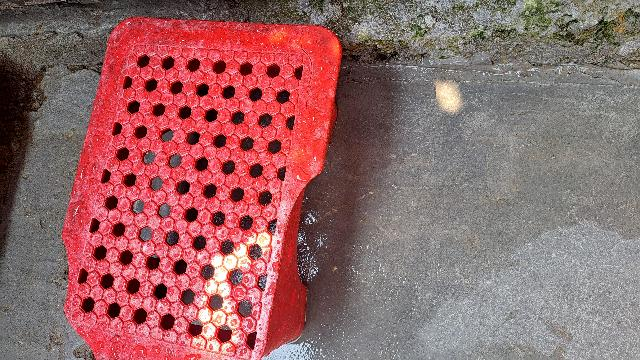hardplastic: (76, 10, 345, 357)
